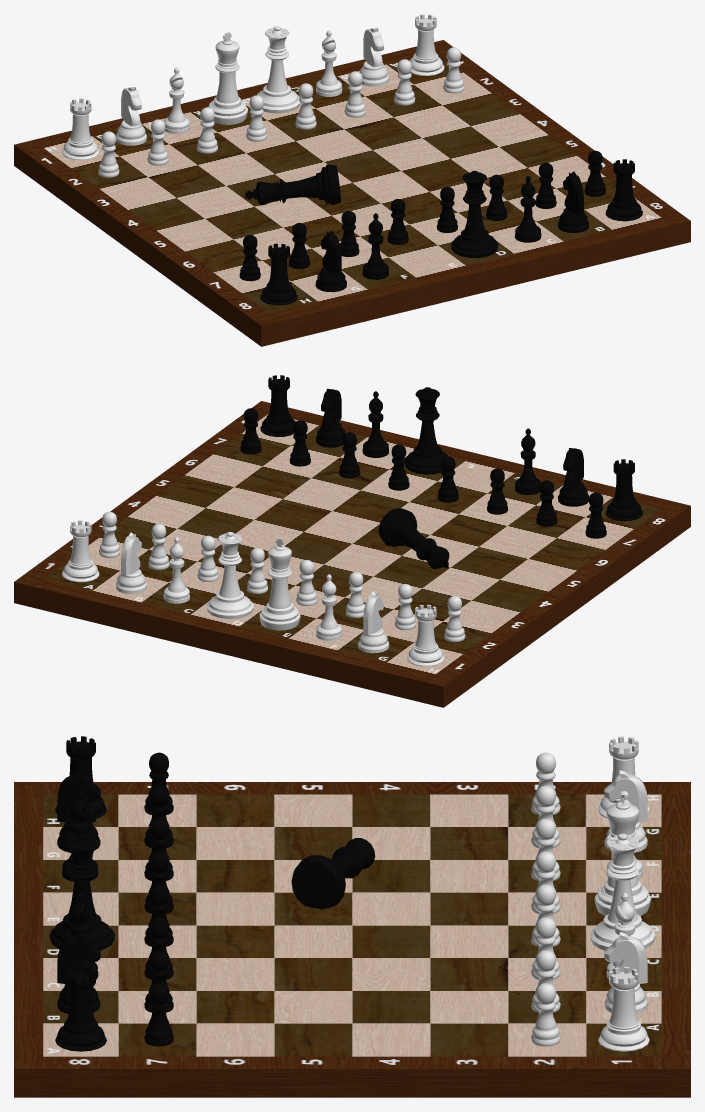
Rendered from ChessBoardKingDie.gltf.
3 views of the same model, one above another, from view 1: azimuth 30°, elevation 25°; view 2: azimuth 150°, elevation 25°; view 3: azimuth 270°, elevation 25° (orthographic). The views are drawn at different scales.
Parts seen in each view (by area): view 1: Cube.001, Cube.002, Cube.006, Cube.016, Cube.012, Cube.009, Cube.004, Cube.021, Cube.033, Cube.034, Cube.022, Cube.024 (+21 smaller); view 2: Cube.001, Cube.016, Cube.012, Cube.002, Cube.006, Cube.004, Cube.009, Cube.033, Cube.021, Cube.022, Cube.034, Cube.036 (+21 smaller); view 3: Cube.001, Cube.002, Cube.006, Cube.012, Cube.021, Cube.033, Cube.016, Cube.022, Cube.024, Cube.036, Cube.034, Cube.020 (+20 smaller).
Boxes of the visible parts, x1,y1,x2,y2 form: Cube.001: [14, 40, 690, 346]; Cube.002: [245, 164, 340, 205]; Cube.006: [451, 170, 498, 258]; Cube.016: [208, 32, 247, 124]; Cube.012: [257, 26, 300, 113]; Cube.009: [62, 98, 99, 160]; Cube.004: [260, 243, 297, 305]; Cube.021: [605, 159, 642, 221]; Cube.033: [409, 14, 444, 75]; Cube.034: [116, 87, 146, 145]; Cube.022: [315, 230, 346, 292]; Cube.024: [558, 171, 588, 232]; Cube.001: [14, 401, 690, 707]; Cube.016: [259, 537, 300, 630]; Cube.012: [206, 531, 253, 619]; Cube.002: [378, 508, 449, 569]; Cube.006: [404, 387, 447, 474]; Cube.004: [605, 459, 642, 521]; Cube.009: [407, 604, 444, 666]; Cube.033: [62, 520, 99, 582]; Cube.021: [260, 375, 295, 436]; Cube.022: [558, 448, 588, 506]; Cube.034: [358, 591, 389, 653]; Cube.036: [116, 532, 146, 593]; Cube.001: [14, 782, 690, 1097]; Cube.002: [291, 838, 375, 909]; Cube.006: [49, 833, 114, 950]; Cube.012: [590, 833, 655, 950]; Cube.021: [55, 966, 106, 1051]; Cube.033: [598, 966, 649, 1051]; Cube.016: [594, 791, 651, 915]; Cube.022: [57, 770, 100, 852]; Cube.024: [57, 932, 100, 1013]; Cube.036: [604, 932, 647, 1013]; Cube.034: [604, 770, 647, 852]; Cube.020: [144, 983, 173, 1046].
Size of the model in its own units: 10.6 by 2.47 by 10.57.
3 materials, 3 textured.
